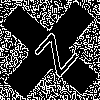Z: (25, 25, 80, 78)
